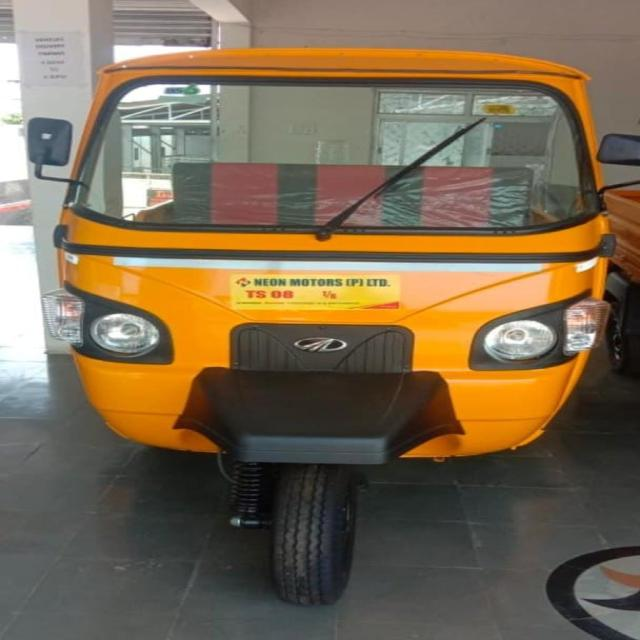autorickshaw: (27, 49, 638, 603)
